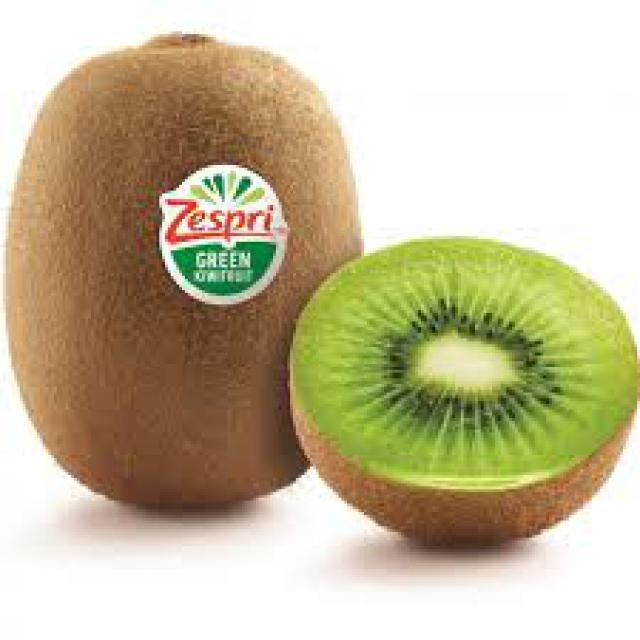kiwi: (4, 35, 363, 507)
